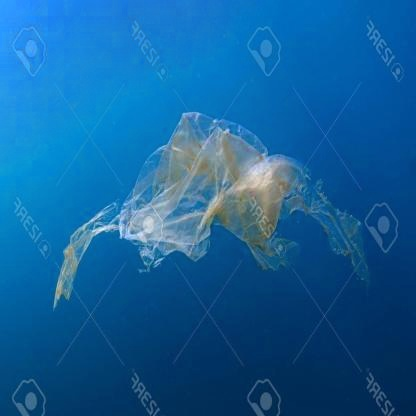pbag: (48, 104, 373, 314)
